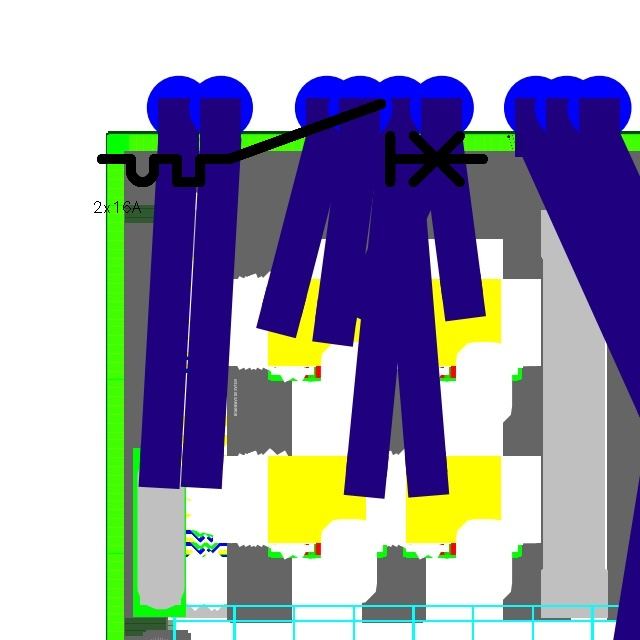interruptor_termomagnetico: (92, 94, 493, 192)
